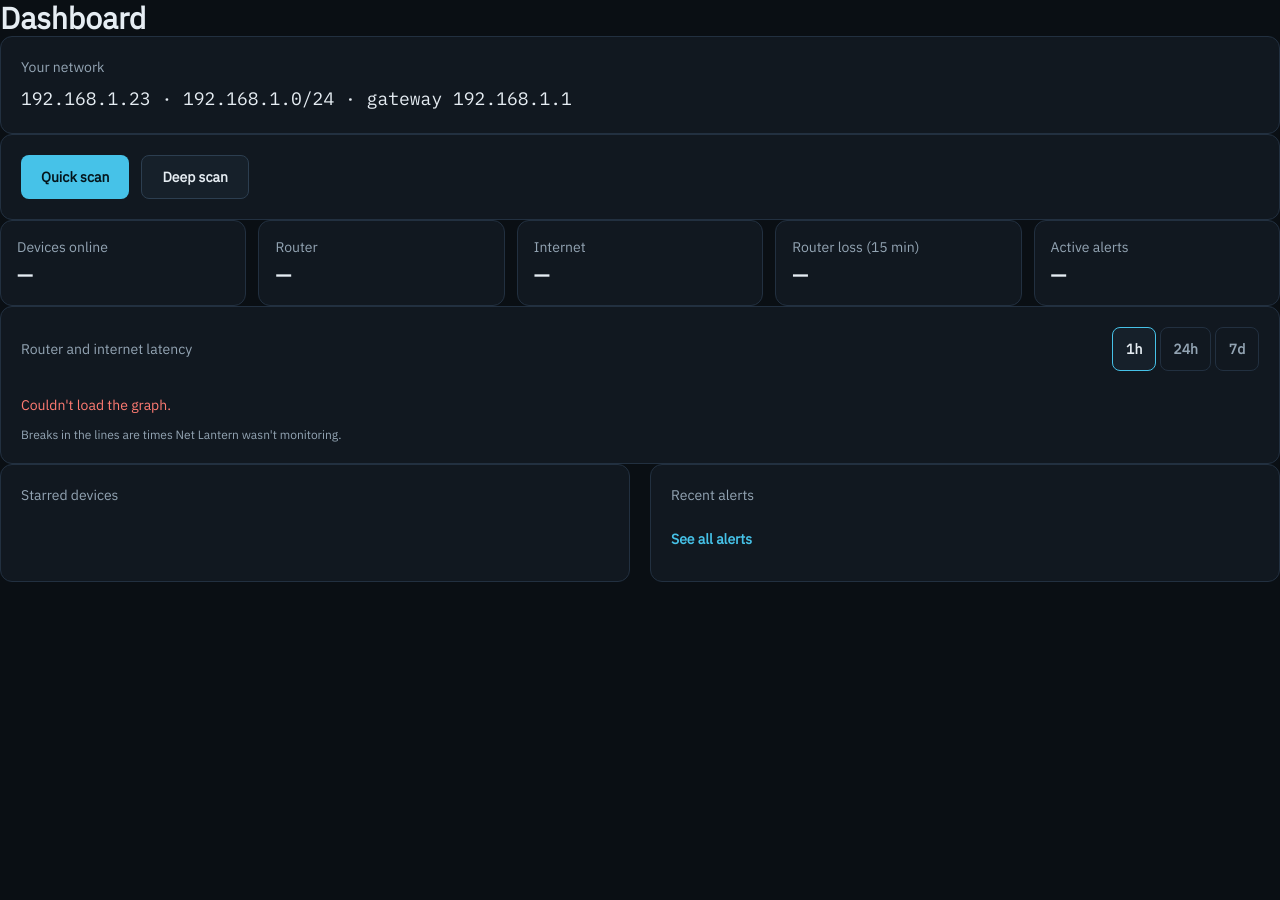
Scenario: Dashboard › a consent_needed answer shows the prompt
The image size is (1280, 900).
Expected: the text "192.168.1.23 · 192.168.1.0/24 · gateway 192.168.1.1" is shown, [21,87,572,110]
Click the button "Deep scan" at (195, 177), box [141,155,249,199]
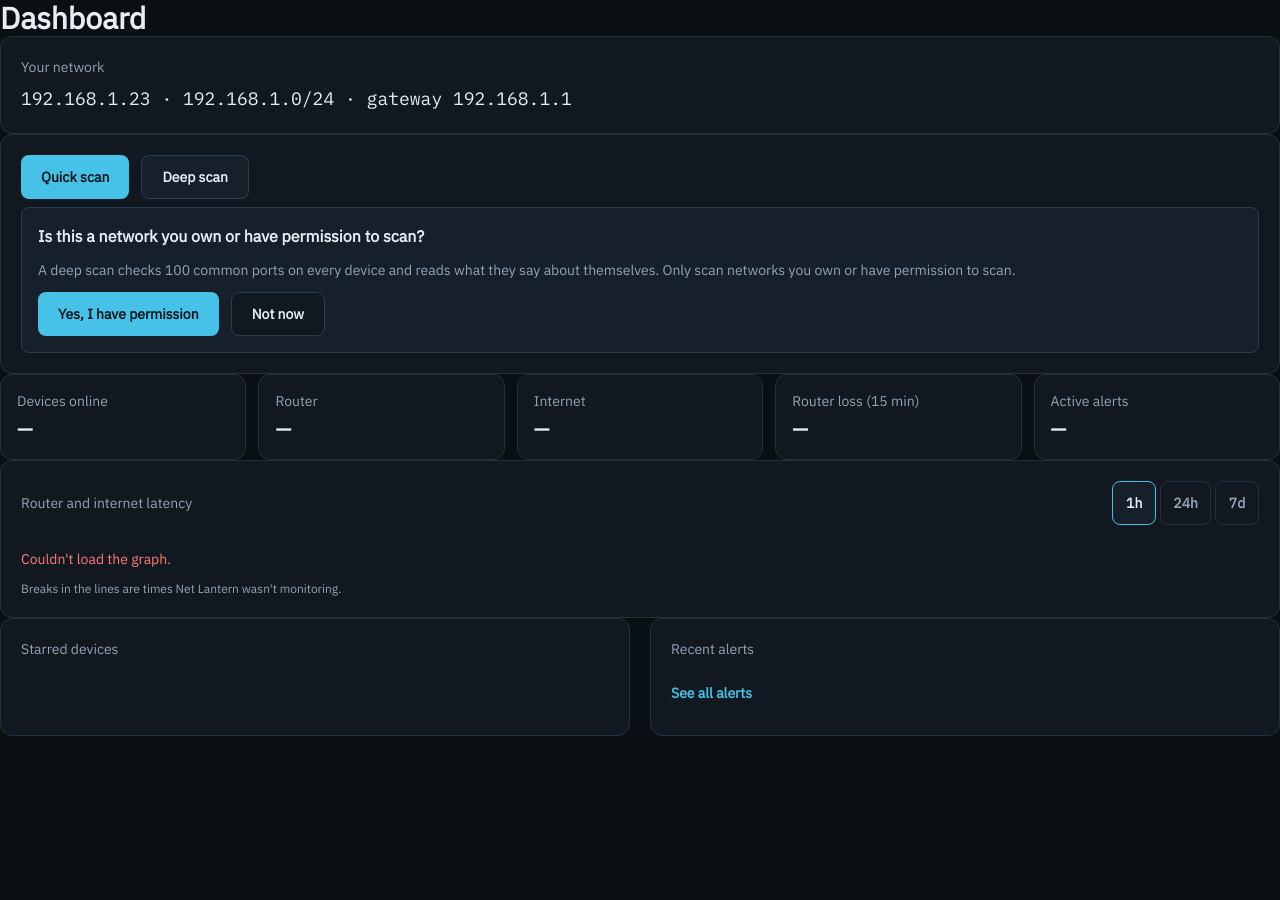
Expected: the dialog is shown, [21,207,1259,353]
